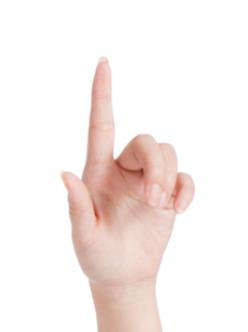up: (55, 43, 199, 283)
